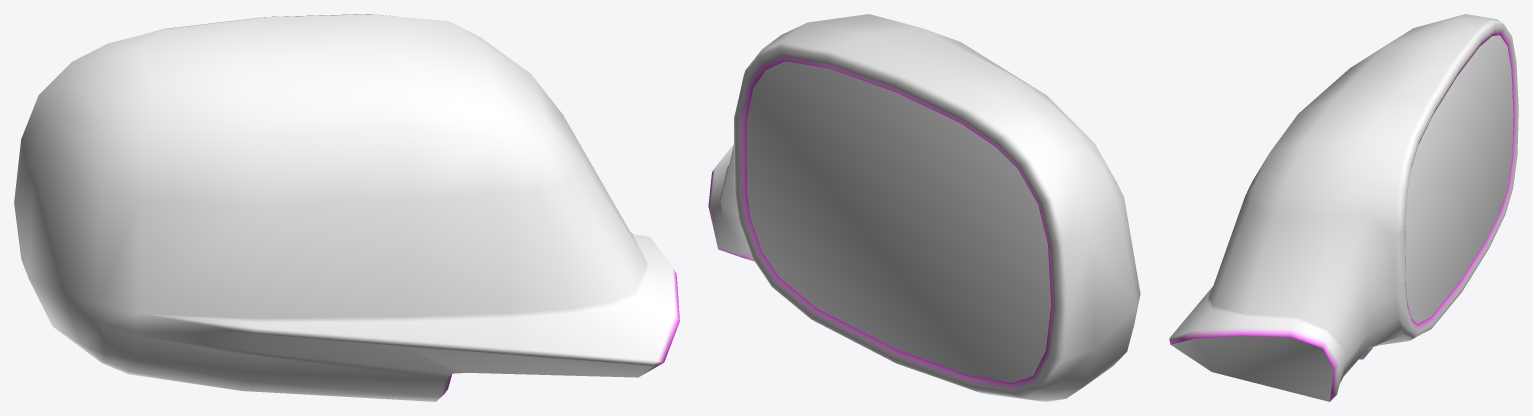
File: Car_Nissan_SkylineGTRVspecR34_1999_MirrorR_SetA.fbx
3 views of the same model, side by side, from view 1: azimuth 30°, elevation 25°; view 2: azimuth 150°, elevation 25°; view 3: azimuth 270°, elevation 25° (orthographic). The views are drawn at different scales.
Visible parts, largest first — view 1: MirrorR 6; view 2: MirrorR 6; view 3: MirrorR 6.
Part boxes in pixels (<box>): MirrorR 6: <box>14,14,679,401</box>; MirrorR 6: <box>708,14,1140,401</box>; MirrorR 6: <box>1169,14,1518,401</box>.
Size of the model in its own units: 0.2076 by 0.1318 by 0.1602.
